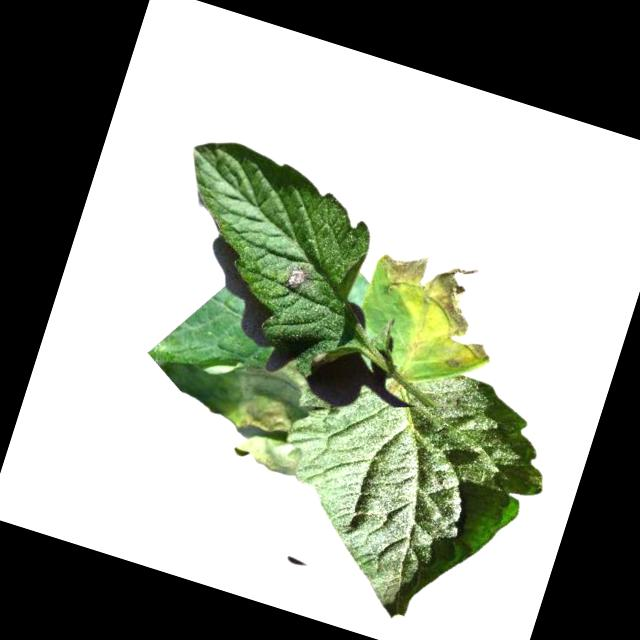Late_blight: (138, 331, 326, 481), (356, 242, 513, 379), (282, 262, 313, 296)
